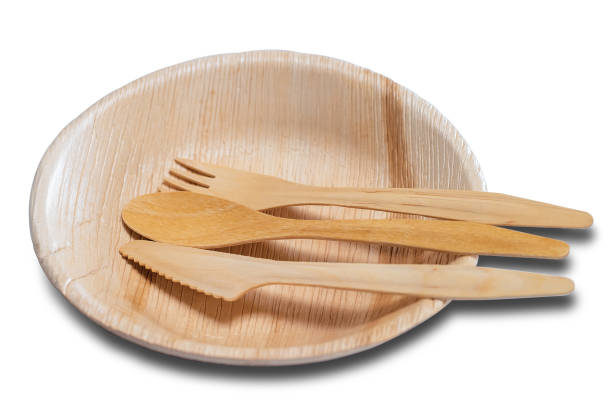Wooden Utensils: (117, 184, 574, 266), (158, 152, 594, 236), (115, 237, 578, 316)
